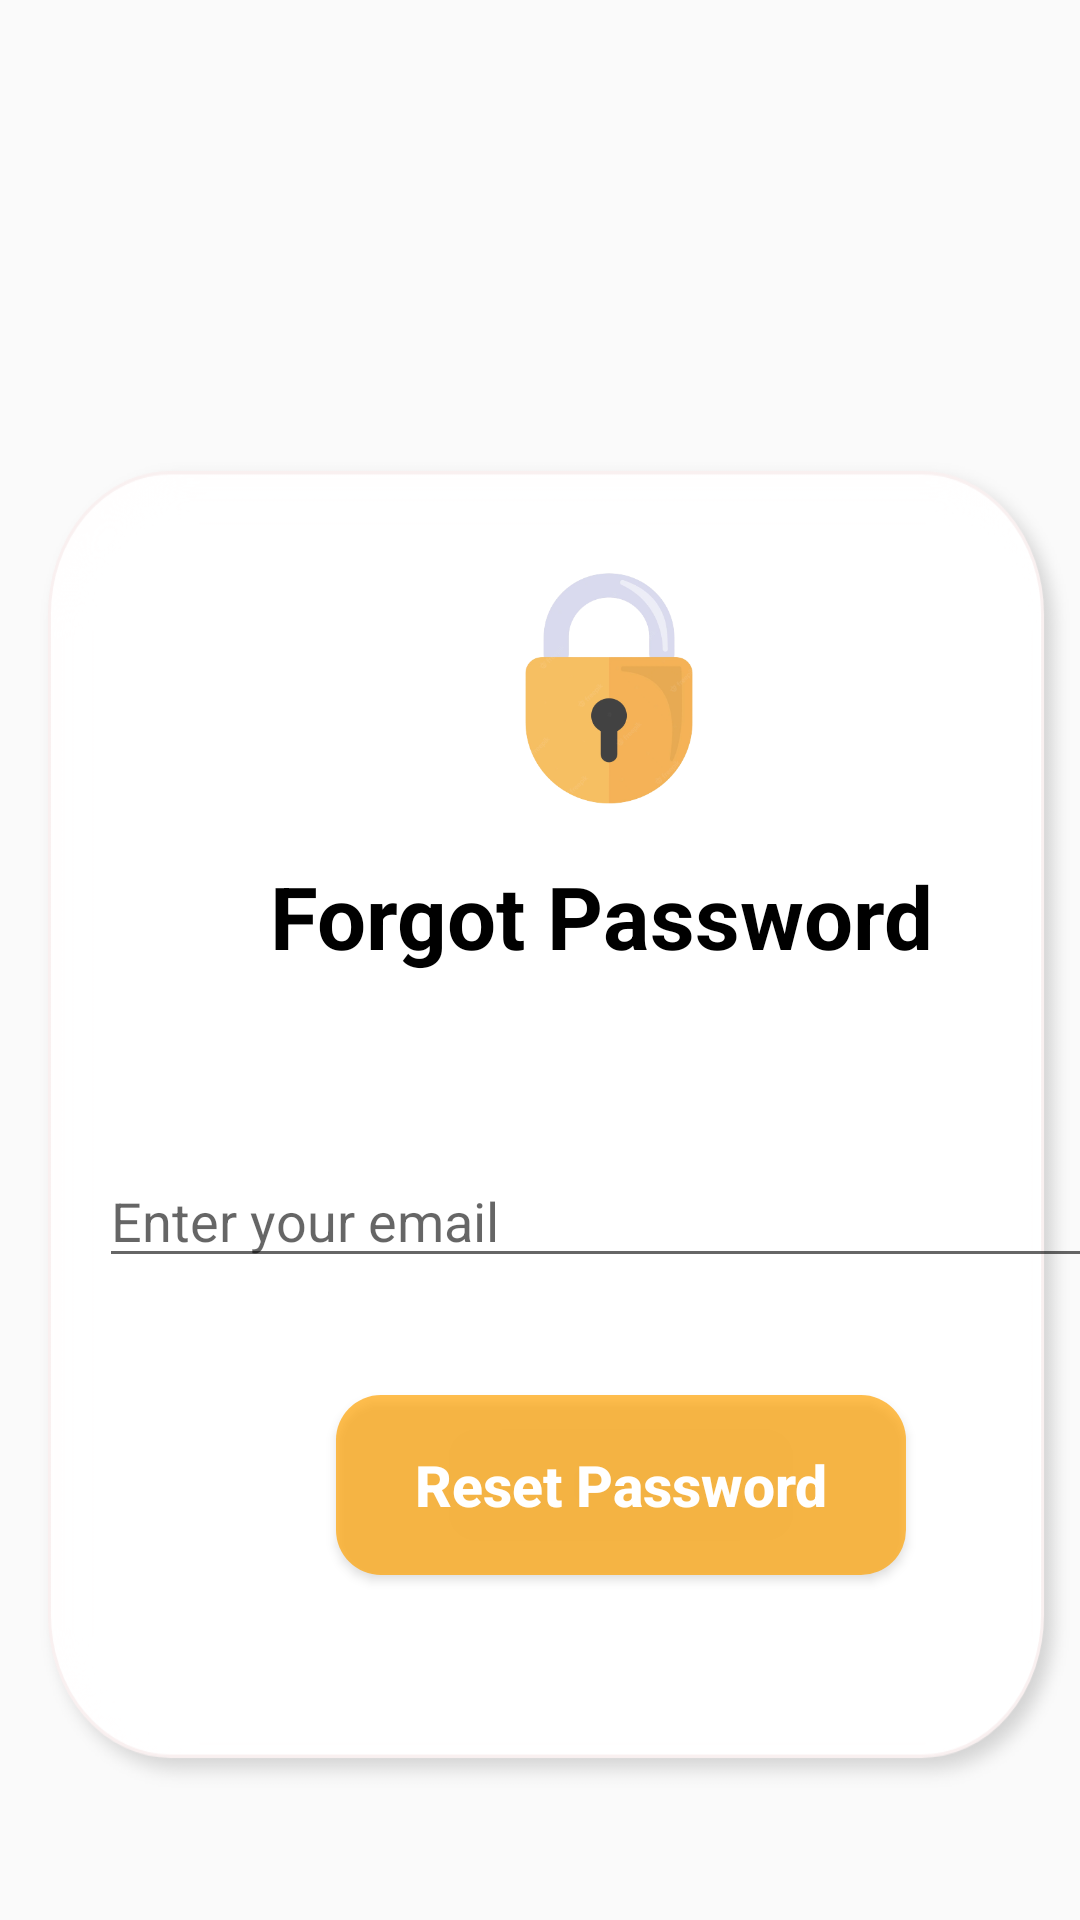

Point at icon controls on the screen. Image size 1080*1920, points as (x,y).
lock: (609,688)
